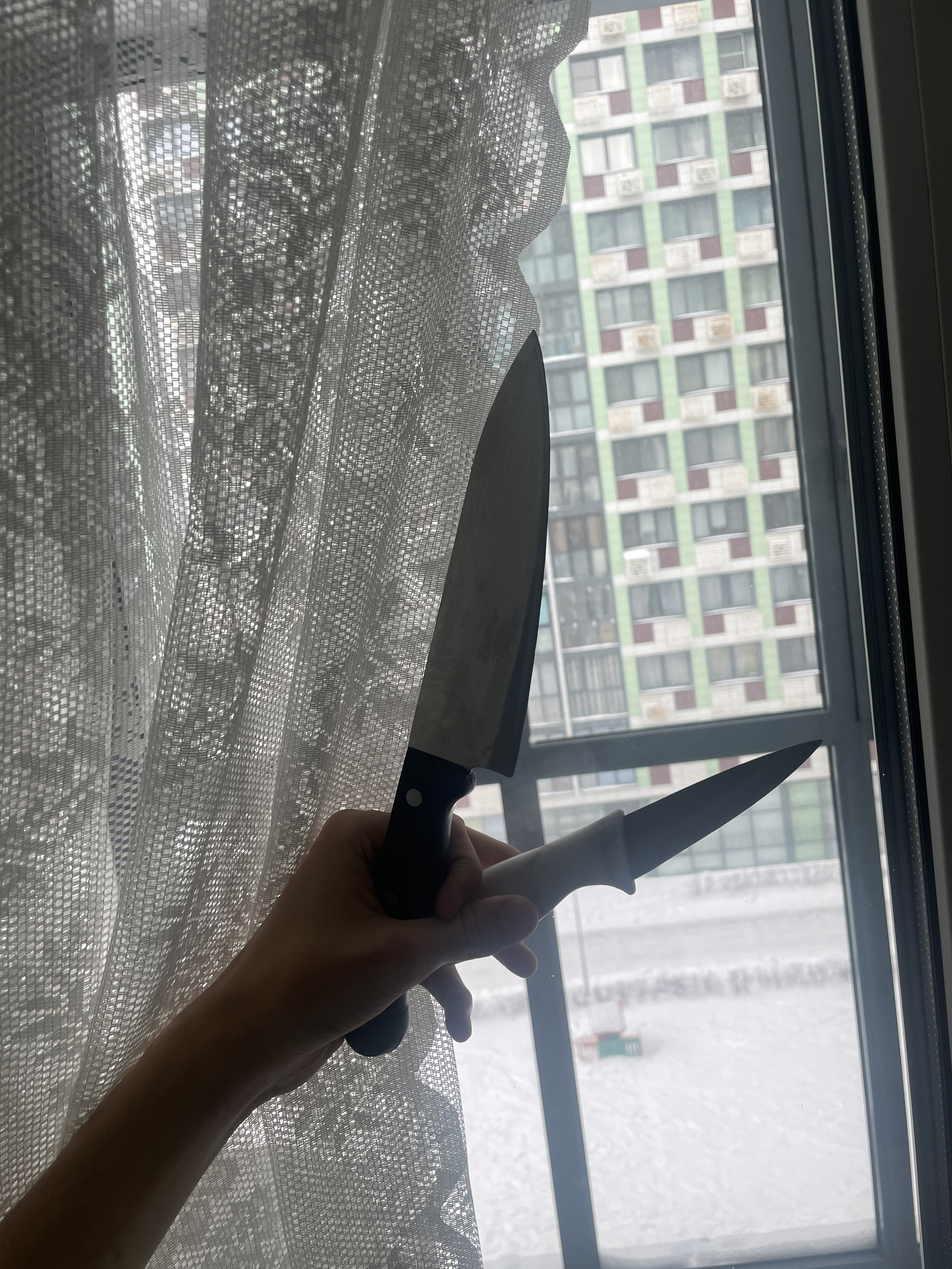knife: (346, 332, 549, 1054), (480, 740, 822, 916)
